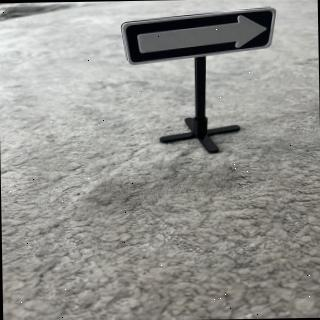sign_oneway_right: (121, 7, 279, 67)
